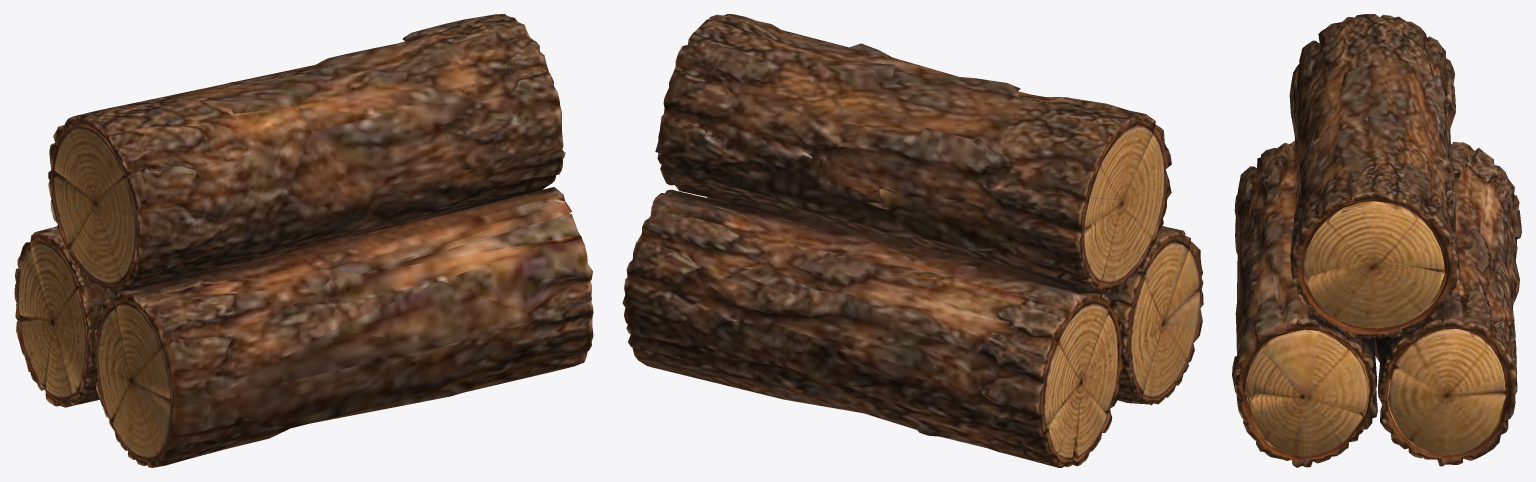
The model's file is res_legno.glb.
3 renders of one model, left to right at view 1: azimuth 30°, elevation 25°; view 2: azimuth 150°, elevation 25°; view 3: azimuth 270°, elevation 25°, orthographic. The views are drawn at different scales.
Size of the model in its own units: 0.9702 by 0.6733 by 0.6411.
Materials: 1 (1 with a texture image).
